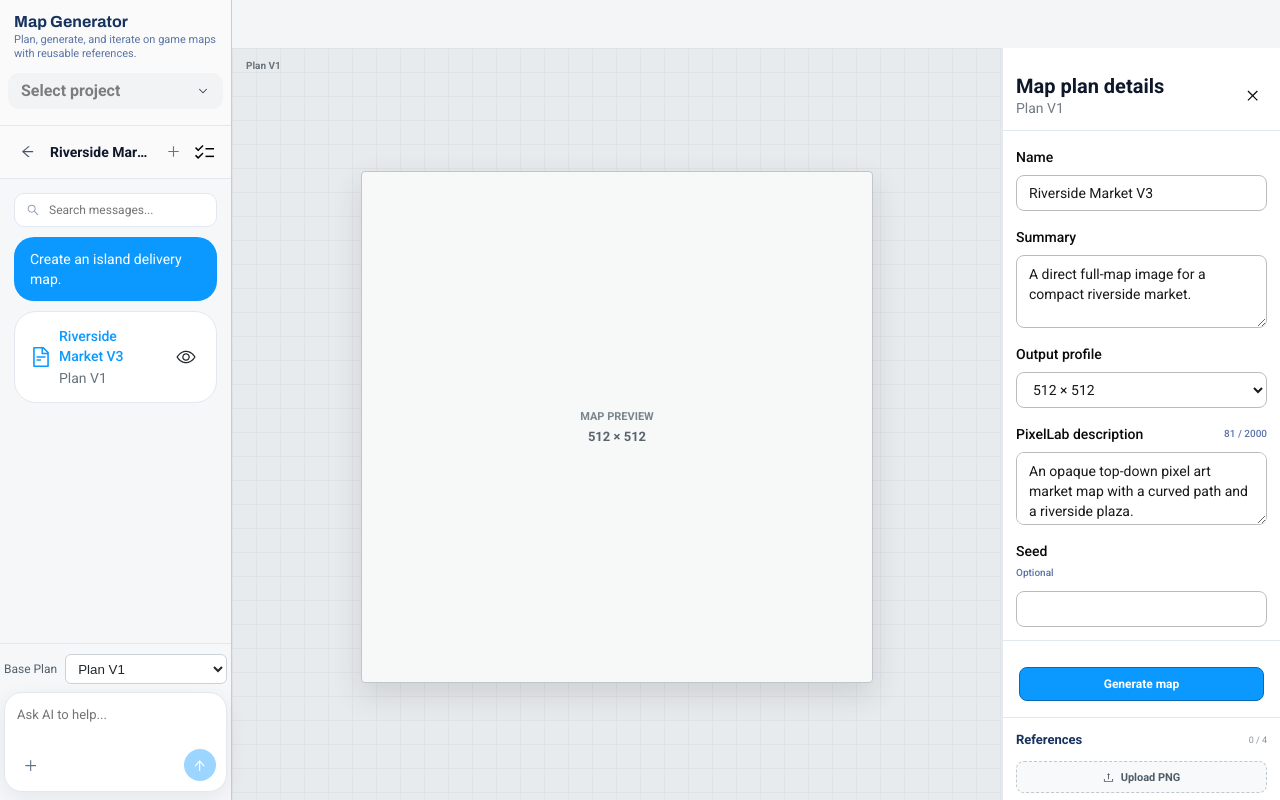
Test: workbench durable state refresh › keeps the existing conversation and appends a completed follow-up after its history
Type "Add a clinic beside the harbor." into the text box labelled "Ask AI to help".
click(116, 725); type("Add a clinic beside the harbor.")  # box [15, 705, 216, 745]
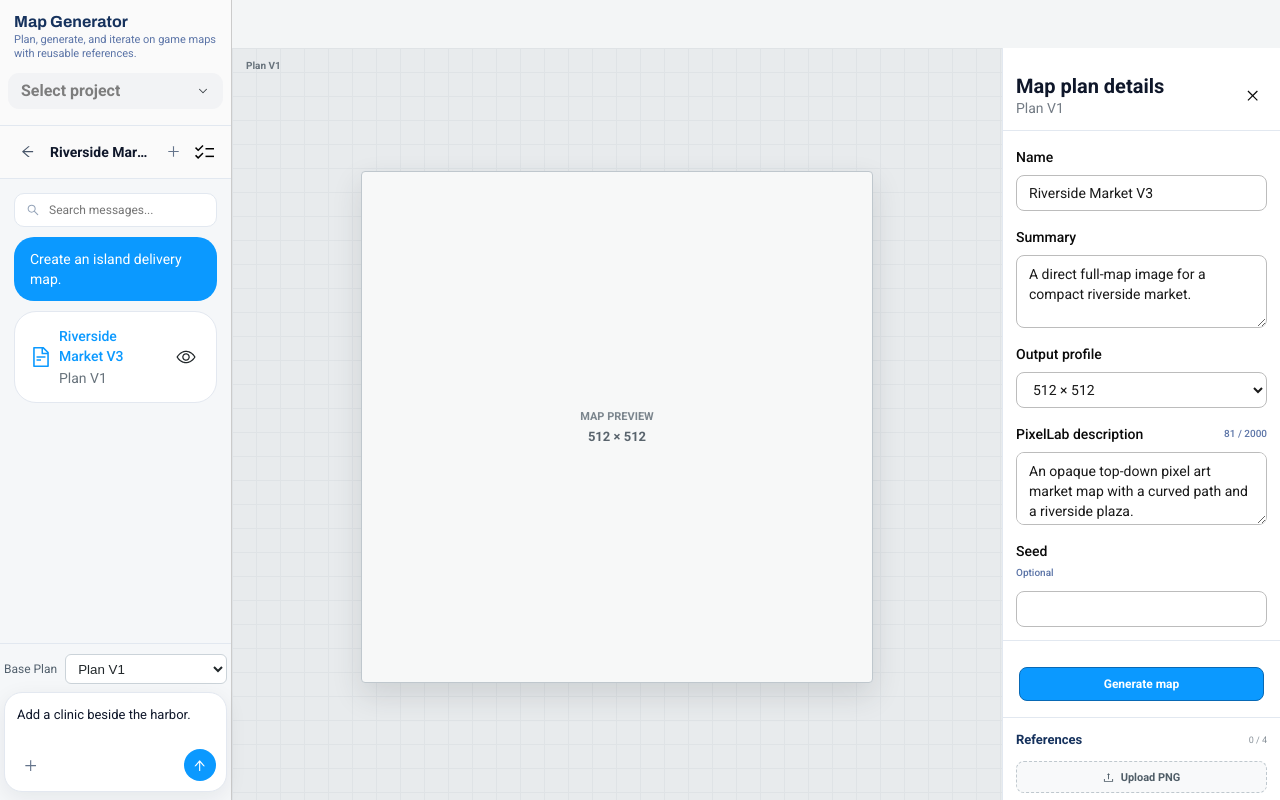
Click the button named "Send".
click(200, 765)  # box [184, 749, 216, 781]
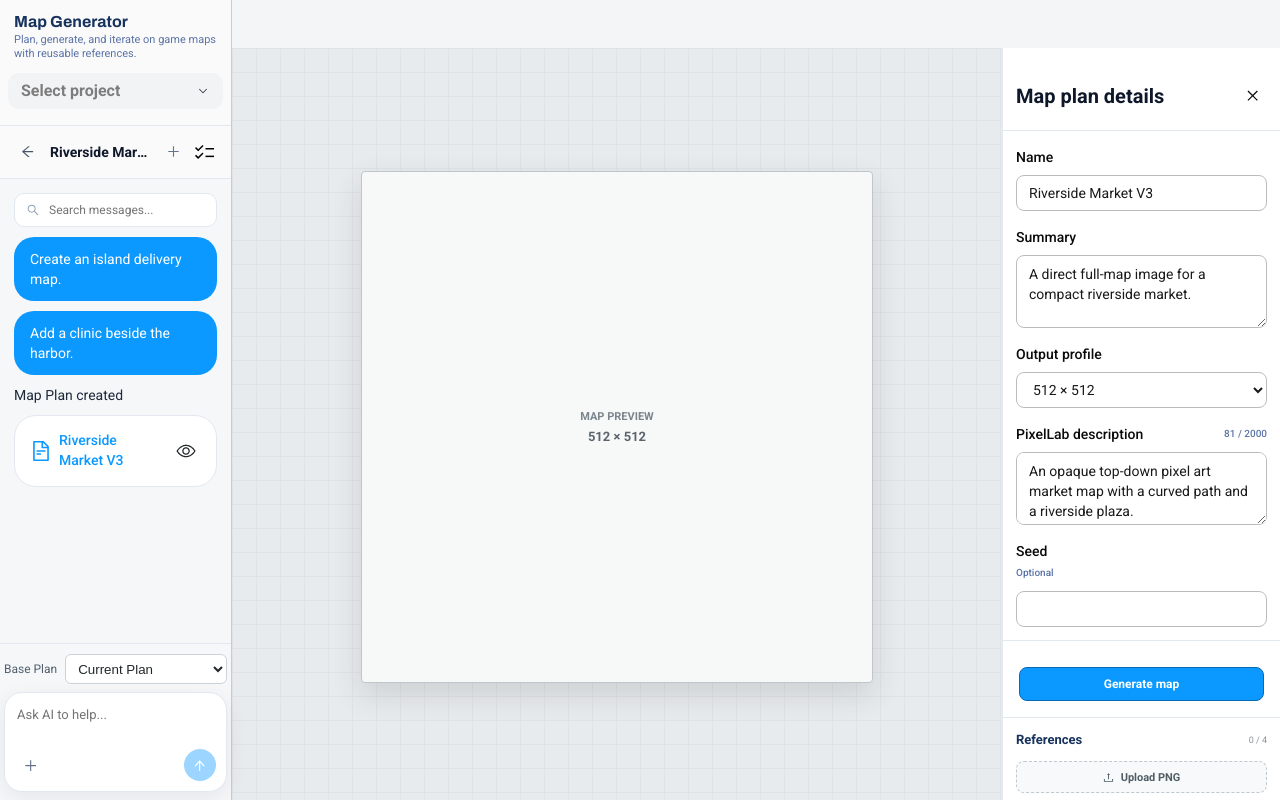
Check: the text "Map Plan created" is shown, box [14, 387, 123, 403]
